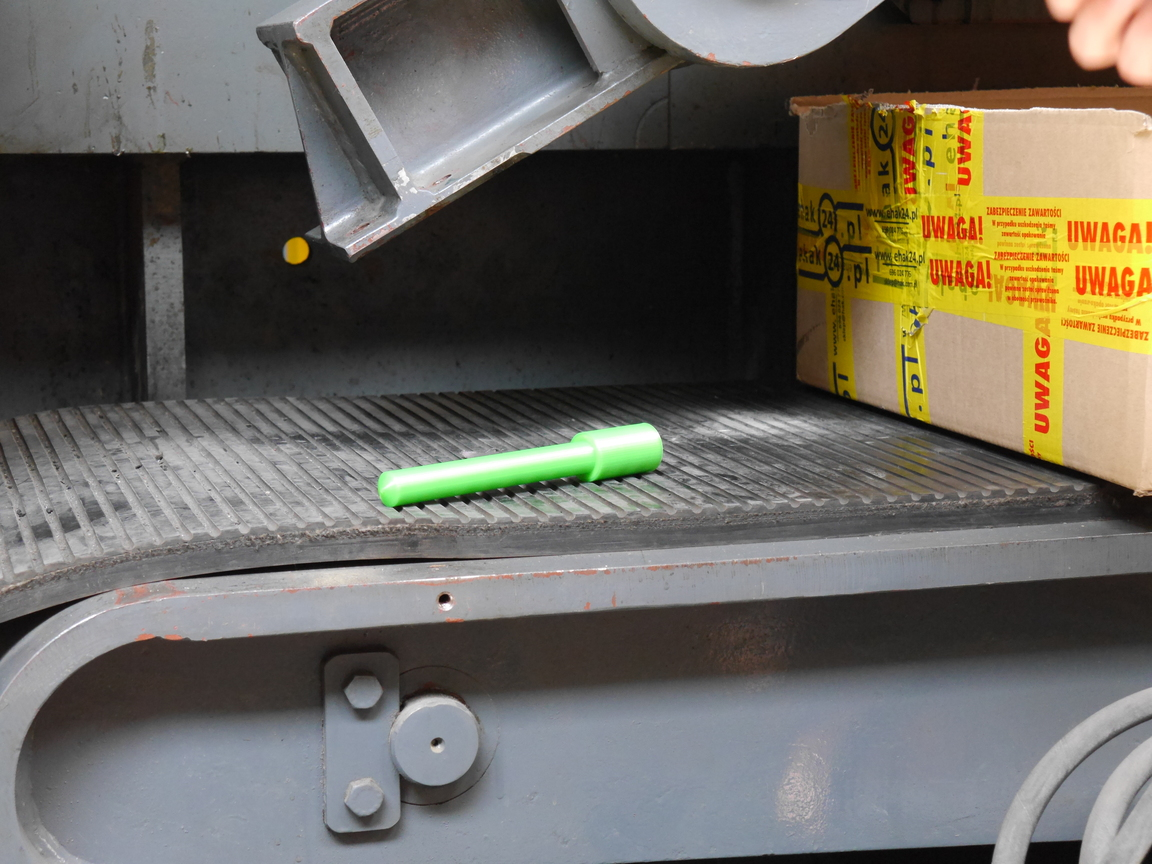cargo_g: (375, 421, 664, 508)
